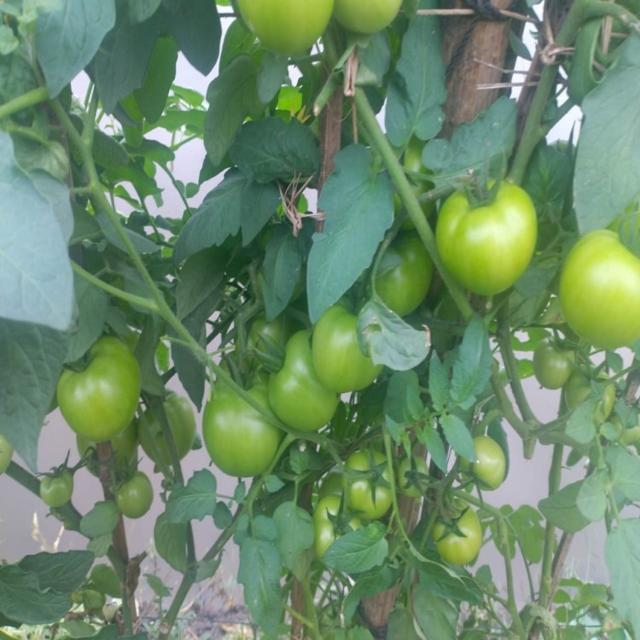tomato: (433, 180, 536, 303), (561, 225, 640, 350), (58, 333, 140, 437), (203, 384, 287, 475), (270, 329, 340, 432), (311, 309, 380, 390), (375, 233, 436, 317), (236, 5, 333, 50), (142, 393, 200, 467), (340, 448, 398, 522), (429, 508, 485, 570), (314, 494, 362, 560), (463, 430, 512, 494), (74, 434, 143, 476), (334, 1, 411, 35), (220, 346, 270, 388), (241, 302, 286, 348), (115, 475, 159, 520), (577, 368, 614, 419), (535, 340, 570, 392), (401, 450, 430, 499), (402, 140, 428, 194), (41, 468, 75, 507)
